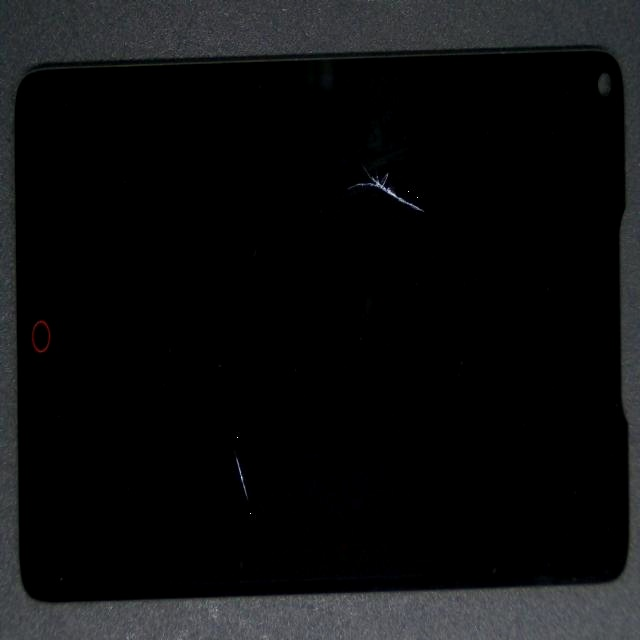scratch: (138, 235, 363, 640), (225, 73, 566, 239)
